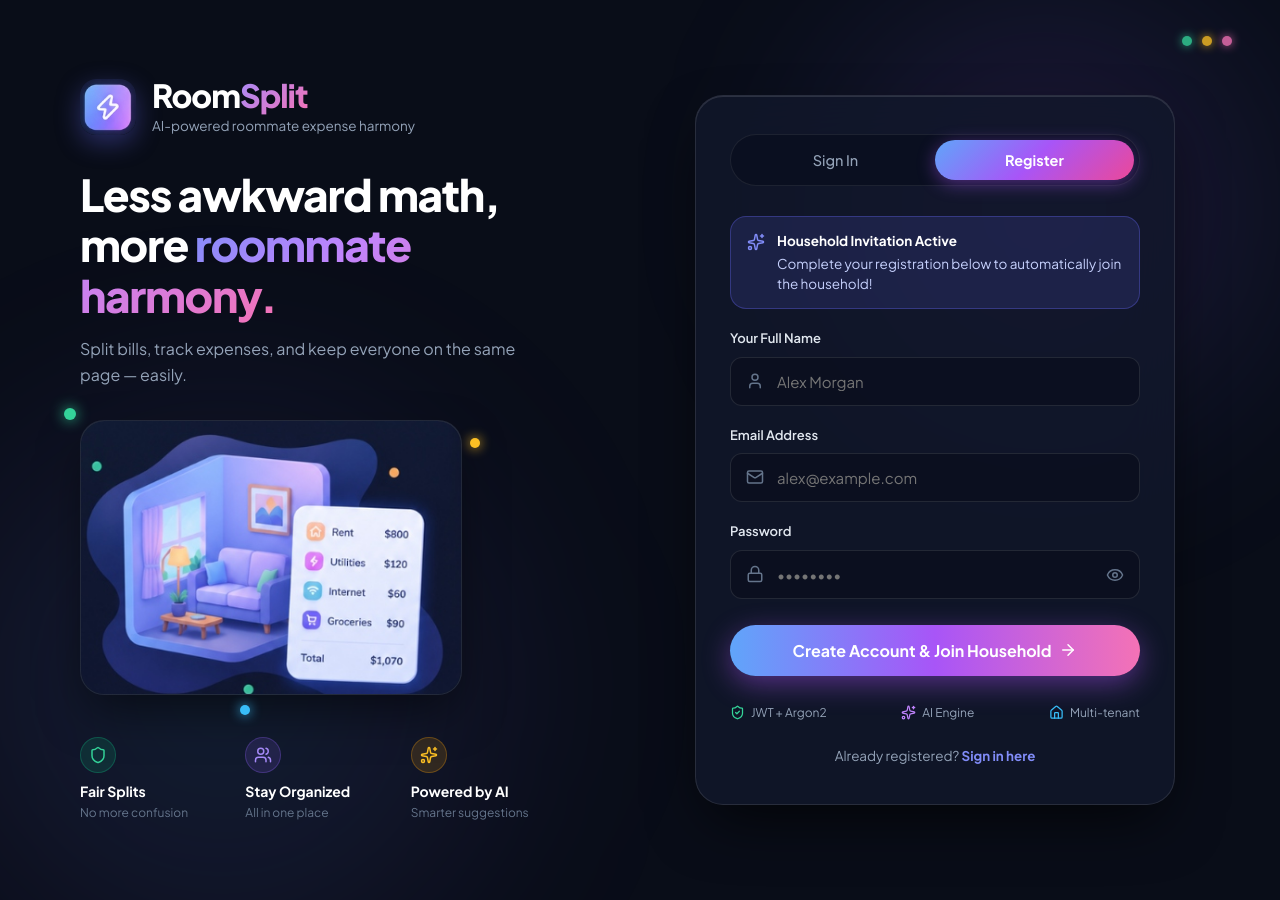
Test case: Phase 8 — Frontend Critical Path Verification › shows error message without redirecting when invite token is invalid or expired
The image size is (1280, 900).
Type "Late Roommate" into the field with placeholder "Alex Morgan" at (935, 381), box left=730, top=356, right=1140, bottom=406
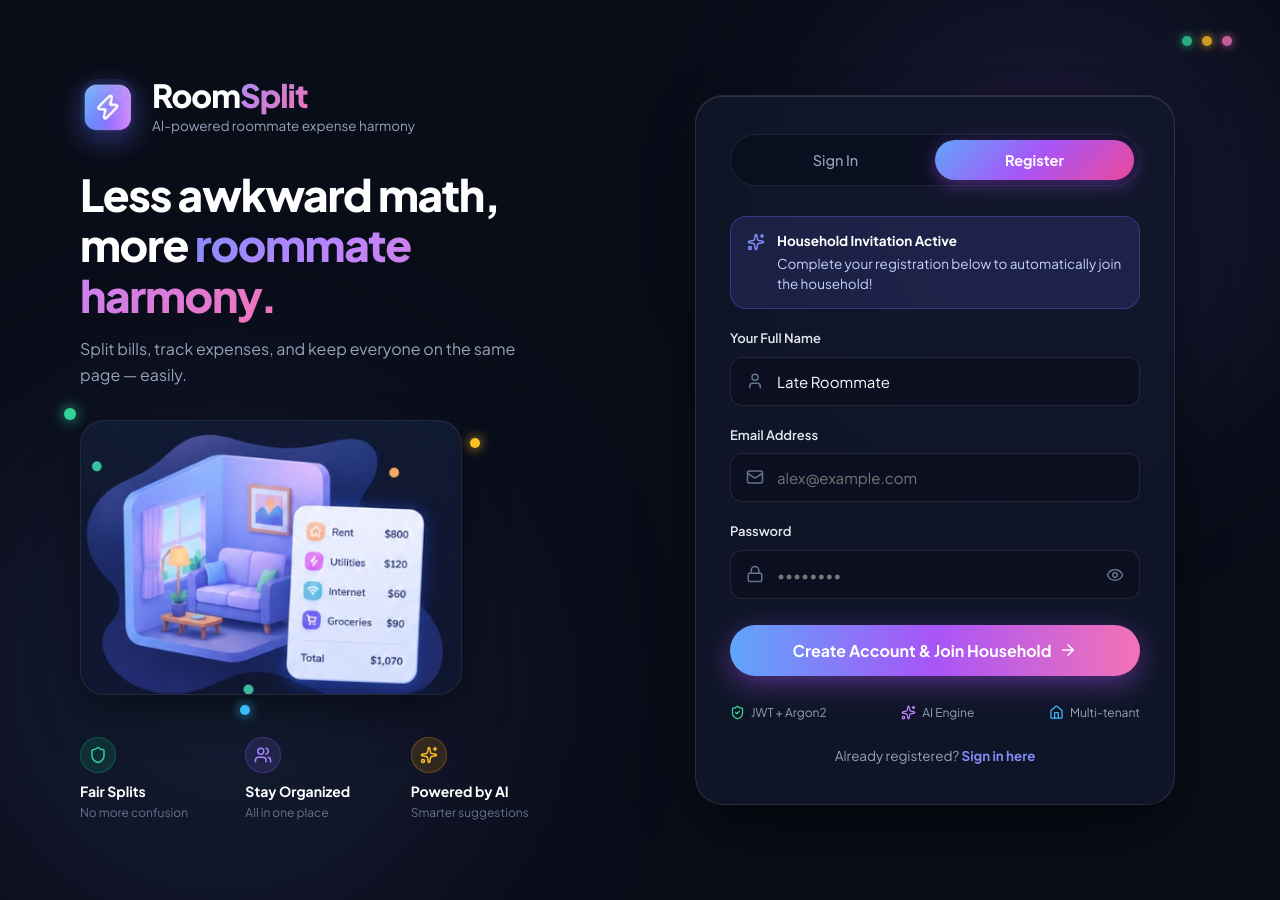
Type "late@test.com" into the field with placeholder "alex@example.com" at (935, 478), box left=730, top=453, right=1140, bottom=502
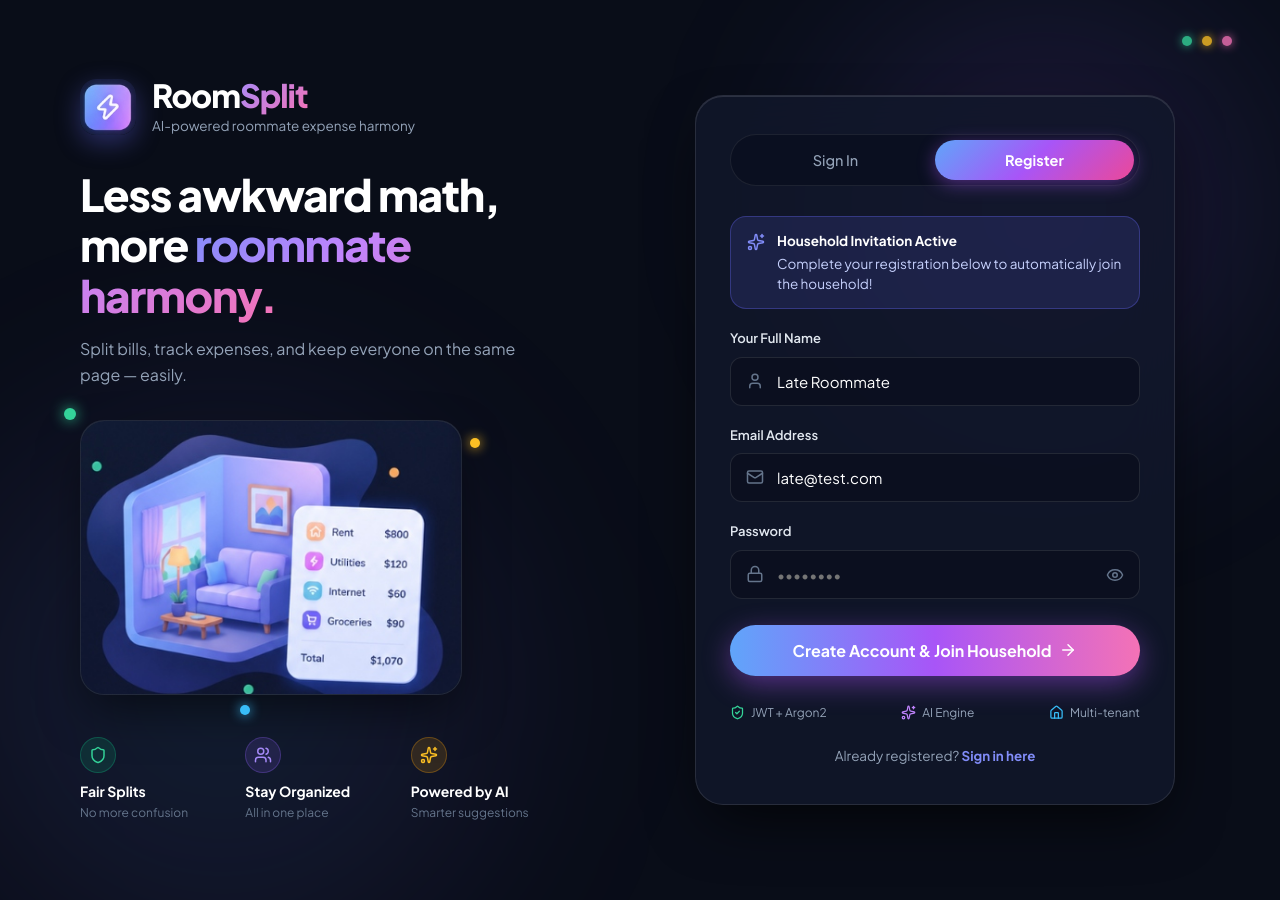
Type "secret123" into the password field with placeholder "••••••••" at (935, 574), box left=730, top=550, right=1140, bottom=598
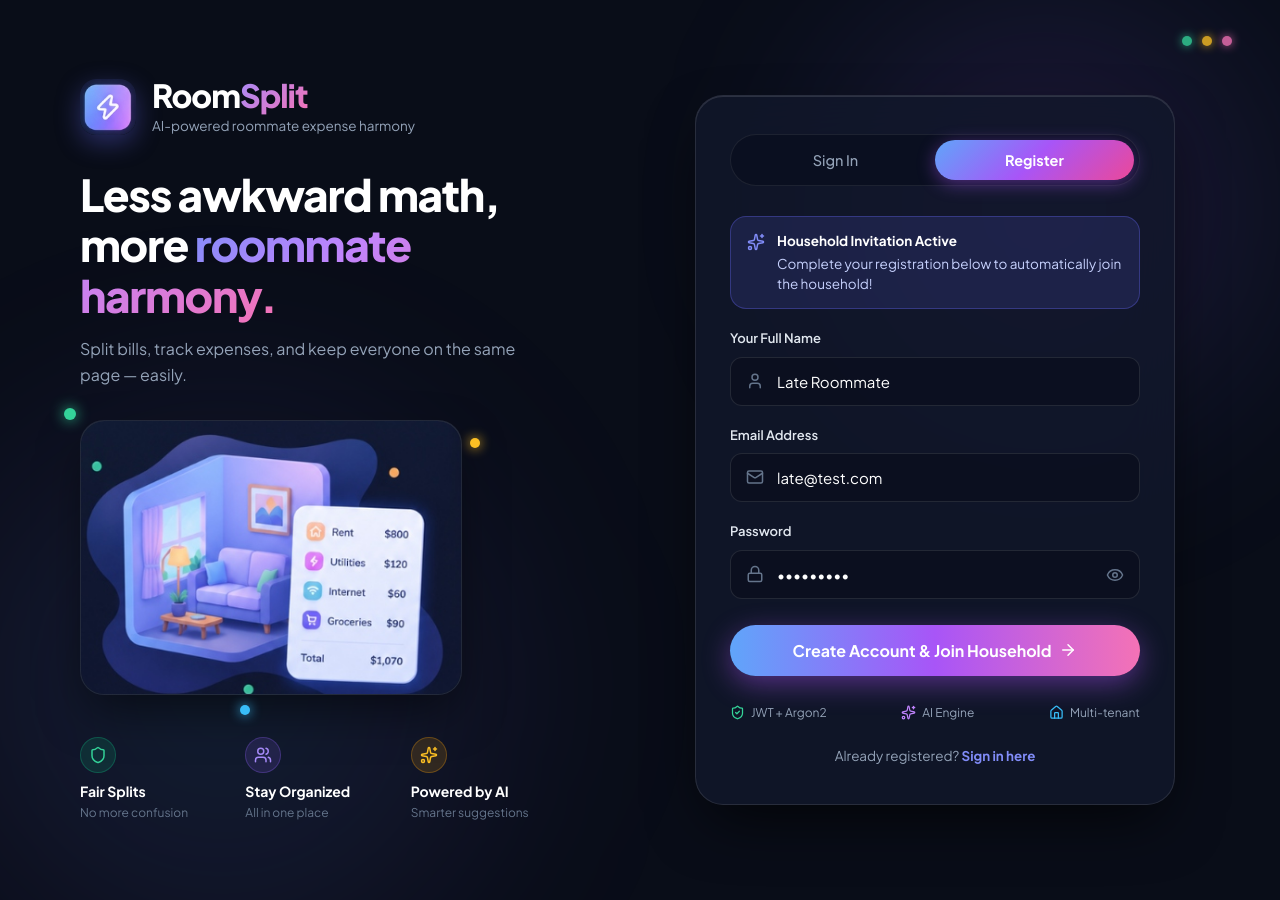
Click the button "Create Account & Join Household" at (935, 650), box left=730, top=624, right=1140, bottom=676
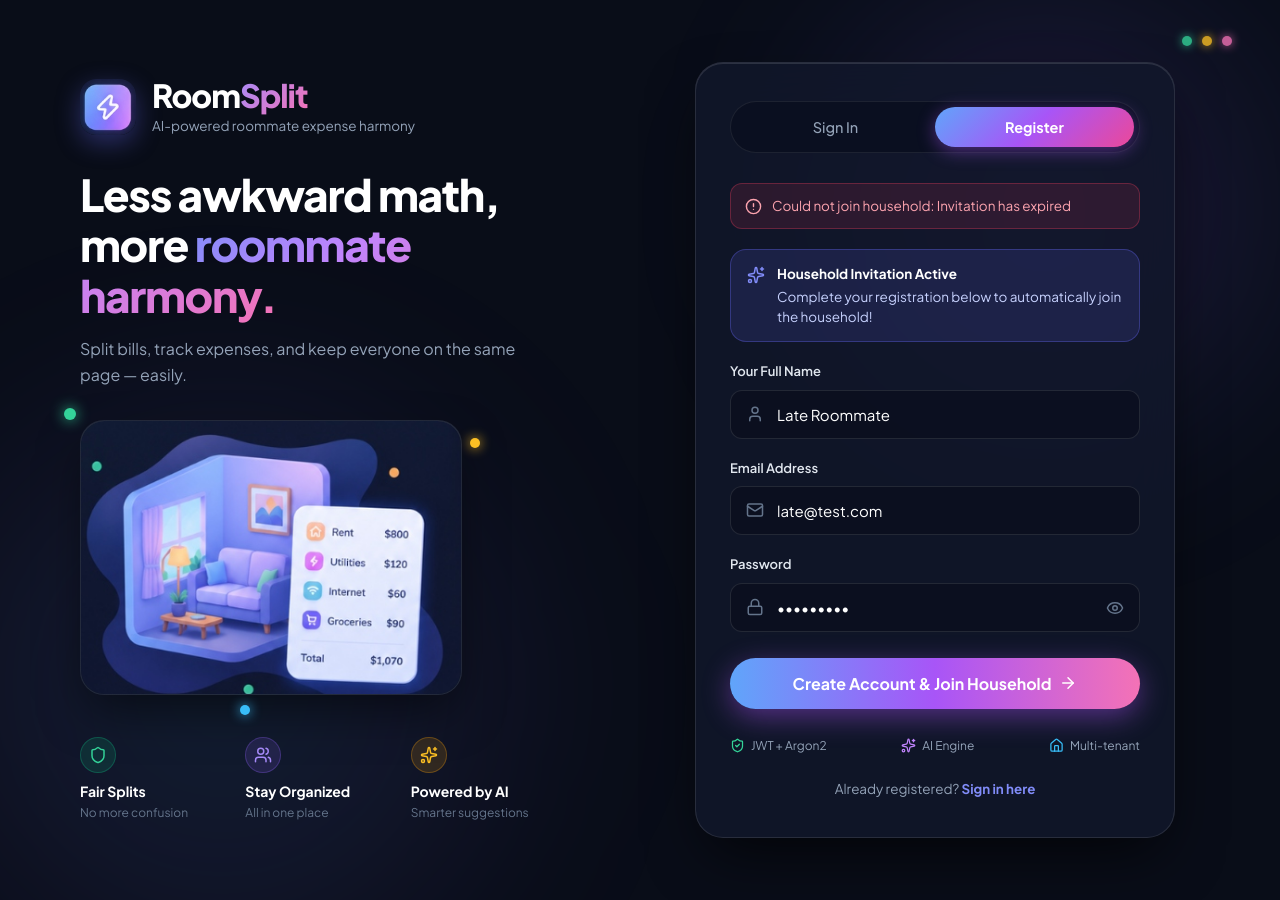
Expected: the text "Could not join household: Invitation has expired" is shown, left=772, top=196, right=1071, bottom=216
